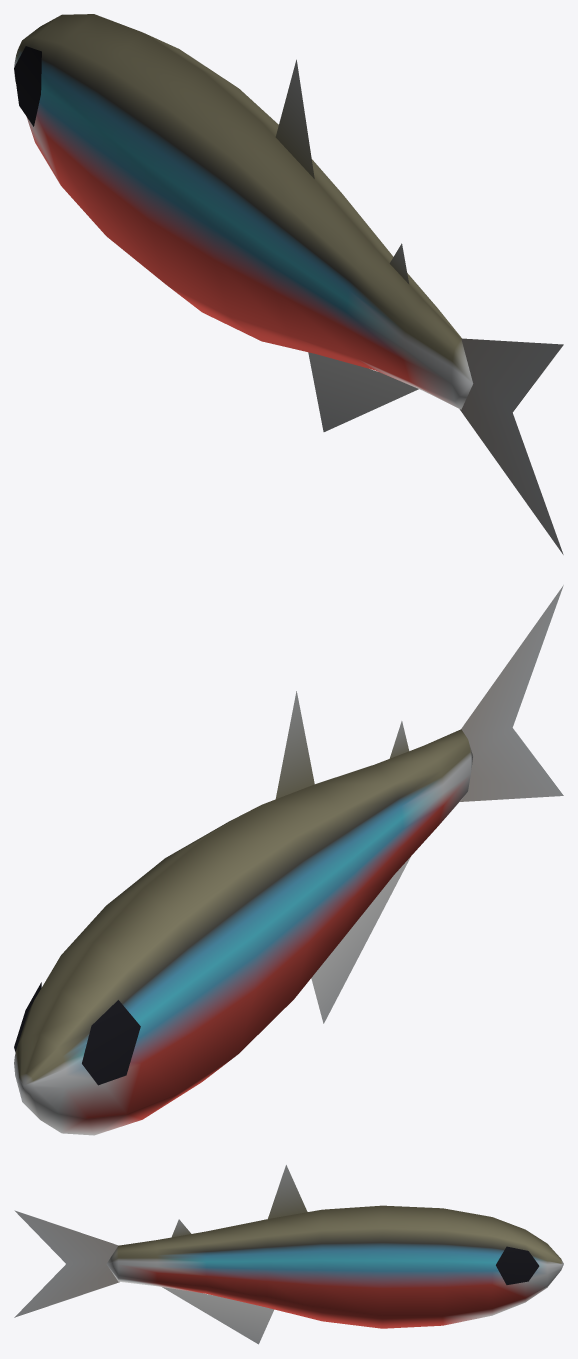
The model's file is cardinal_tetra_school.glb.
3 views of the same model, one above another, from view 1: azimuth 30°, elevation 25°; view 2: azimuth 150°, elevation 25°; view 3: azimuth 270°, elevation 25° (orthographic). The views are drawn at different scales.
Visible parts, largest first — view 1: cardinal_tetra_school; view 2: cardinal_tetra_school; view 3: cardinal_tetra_school.
Part boxes in pixels (left/top/right/bottom): cardinal_tetra_school: left=14, top=14, right=563, bottom=554; cardinal_tetra_school: left=14, top=585, right=563, bottom=1135; cardinal_tetra_school: left=14, top=1165, right=563, bottom=1344.
Size of the model in its own units: 0.00481 by 0.0152 by 0.042.
